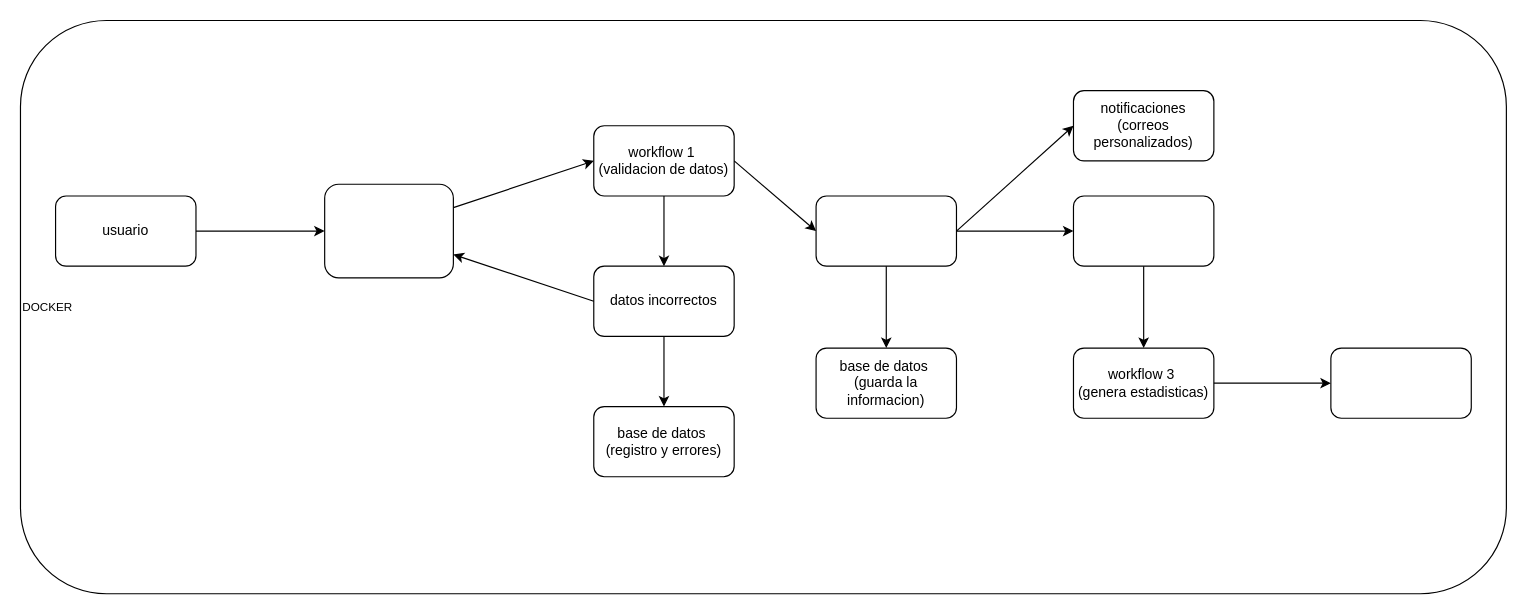
The diagram is 1527 pixels wide and 614 high, and some of its shapes have lost their labels. The centre of each missing label's shape, as x and y in pixels:
"envio de reporte semanal (correo)" belongs at point 1400,382.
"HTML (INGRESO)" belongs at point 388,230.
"tickets (guardados)" belongs at point 1143,230.
"workflow 2 (genera prioridad)" belongs at point 885,230.
